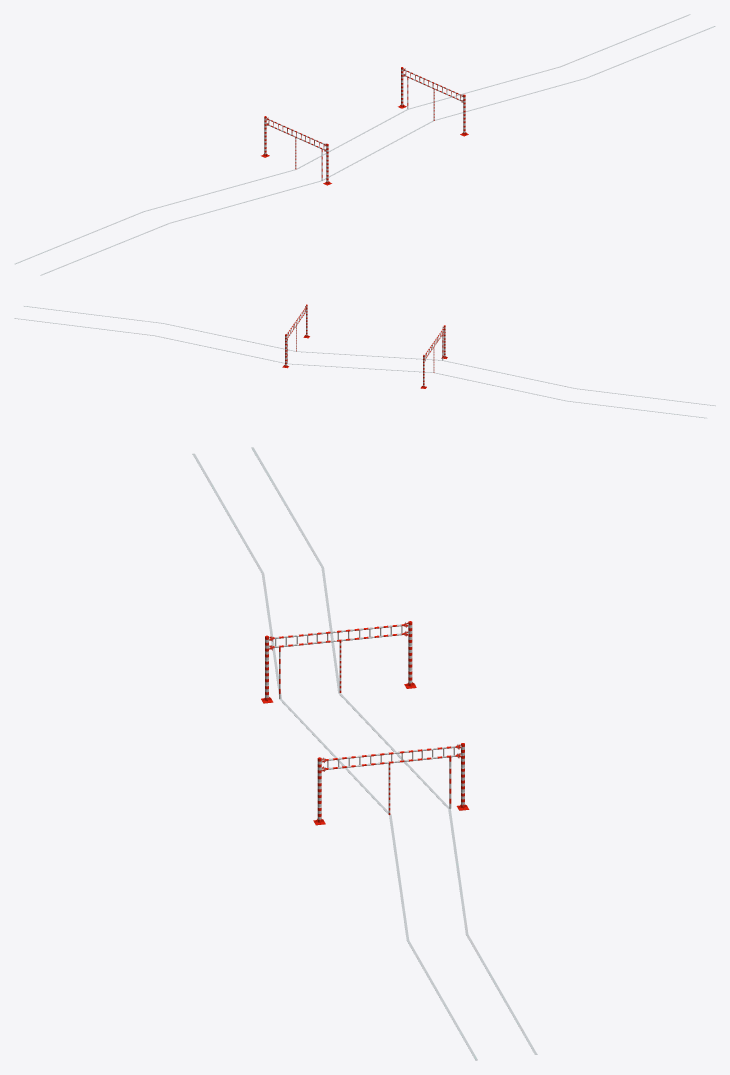
The model's file is 银鹏改动项目(1).FBX.
The picture shows the model from 3 angles, top to bottom: view 1: azimuth 30°, elevation 25°; view 2: azimuth 150°, elevation 25°; view 3: azimuth 270°, elevation 25°; orthographic projection. The views are drawn at different scales.
Visible parts, largest first — view 1: 图形005, Box950, Box952; view 2: 图形005, Box950, Box952; view 3: 图形005, Box952, Box950.
Boxes of the visible parts, x1,y1,x2,y2 form: 图形005: [14, 14, 715, 275]; Box950: [261, 116, 331, 185]; Box952: [398, 67, 468, 136]; 图形005: [14, 306, 715, 418]; Box950: [420, 325, 447, 388]; Box952: [282, 304, 309, 368]; 图形005: [192, 447, 537, 1060]; Box952: [313, 743, 469, 825]; Box950: [261, 621, 416, 703].
Bounding box in the file's own units: 82.4 × 4.03 × 19.61.
Materials: 2 (2 with a texture image).
